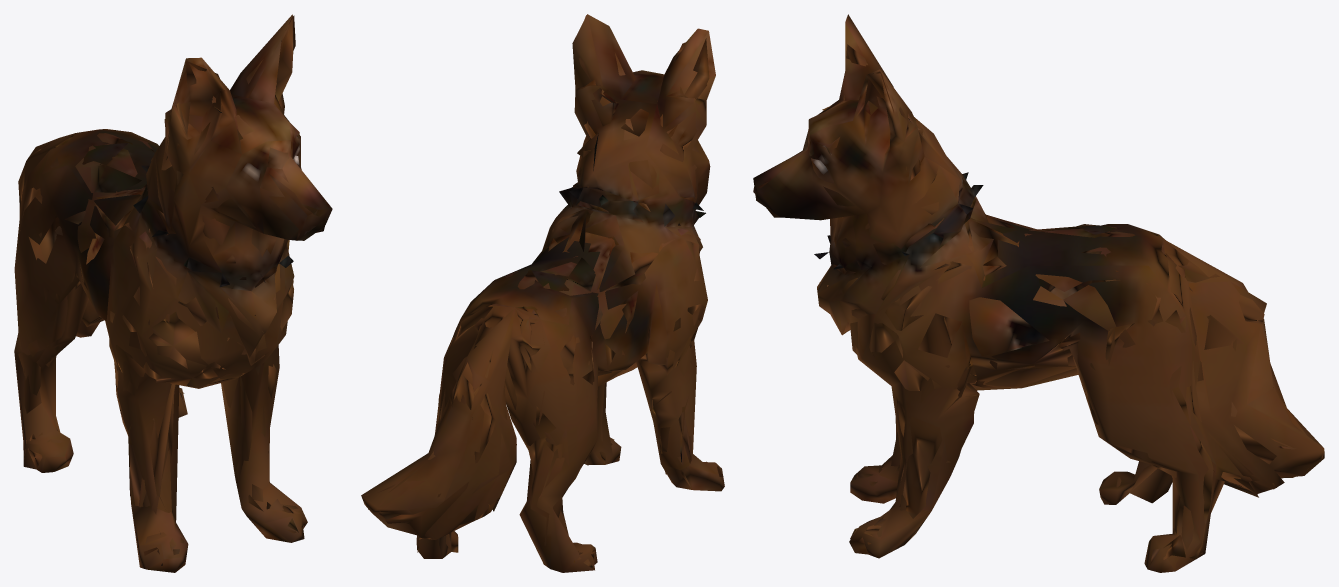
File: detail_5_lo2.glb
The picture shows the model from 3 angles, left to right: view 1: azimuth 30°, elevation 25°; view 2: azimuth 150°, elevation 25°; view 3: azimuth 270°, elevation 25°; orthographic projection. The views are drawn at different scales.
Parts seen in each view (by area): view 1: Mesh_0.001; view 2: Mesh_0.001; view 3: Mesh_0.001.
Boxes of the visible parts, x1,y1,x2,y2 form: Mesh_0.001: [14, 14, 332, 572]; Mesh_0.001: [361, 14, 724, 572]; Mesh_0.001: [753, 14, 1324, 572].
Size of the model in its own units: 0.3705 by 0.9276 by 0.9908.
Materials: 1 (1 with a texture image).
